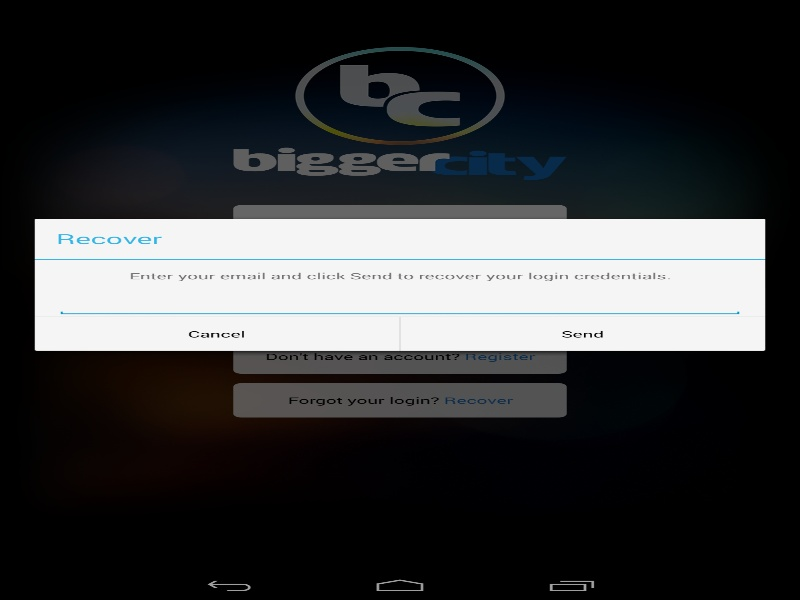Button: (34, 317, 399, 350), (400, 317, 765, 350)
Input: (56, 291, 744, 316)
